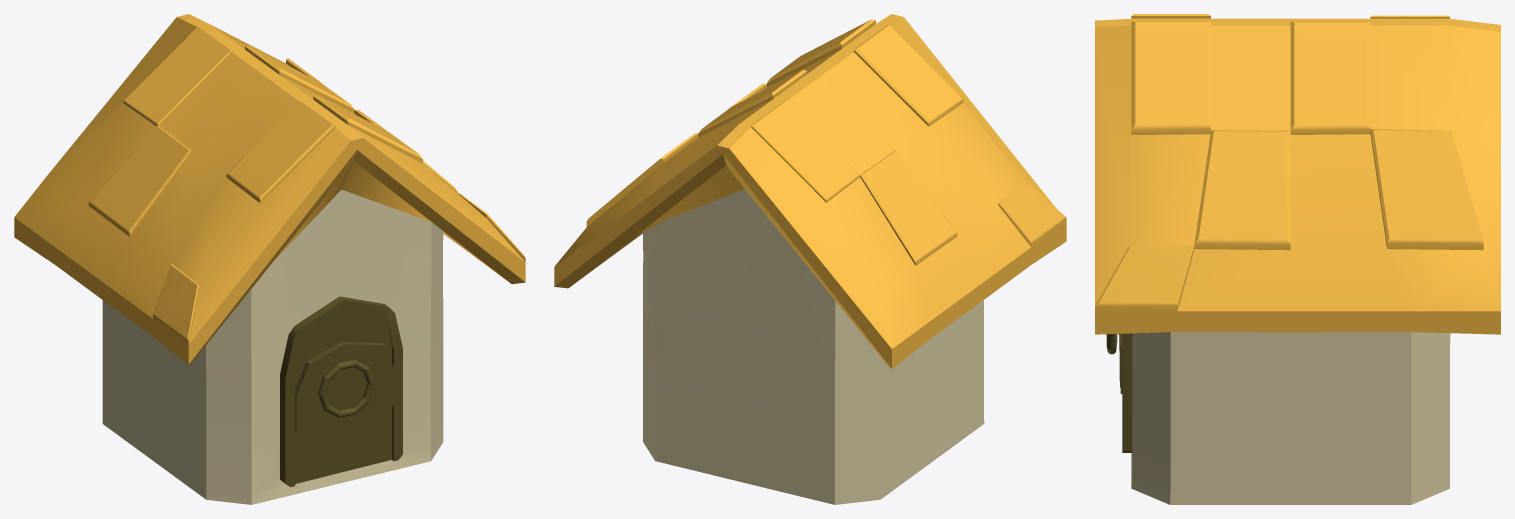
File: maison_complete_real.fbx
3 views of the same model, side by side, from view 1: azimuth 30°, elevation 25°; view 2: azimuth 150°, elevation 25°; view 3: azimuth 270°, elevation 25° (orthographic). The views are drawn at different scales.
Visible parts, largest first — view 1: maison_complete:pCube1, porte; view 2: maison_complete:pCube1; view 3: maison_complete:pCube1, porte.
Boxes of the visible parts, <box> form: maison_complete:pCube1: <box>14,14,525,504</box>; porte: <box>280,296,402,487</box>; maison_complete:pCube1: <box>554,14,1066,504</box>; maison_complete:pCube1: <box>1095,14,1500,504</box>; porte: <box>1106,333,1132,452</box>.
Bounding box in the file's own units: 7.53 × 7.72 × 6.74.
